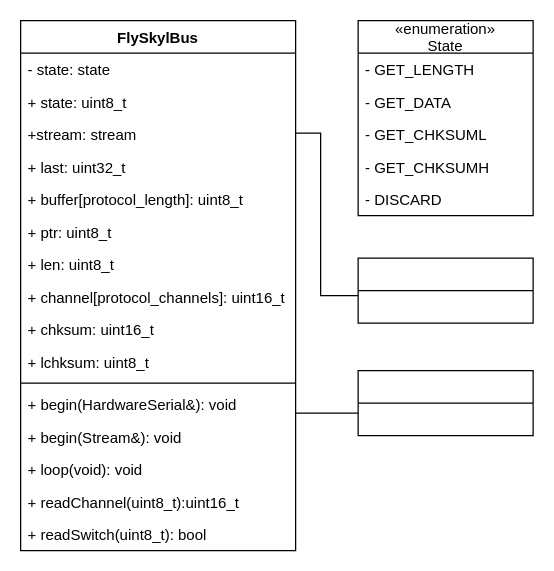
Image size: 554x571. Some labels were removed from this diagram. Each missing label, with the centre of its shape:
HardwareSerial: the point at 445,402
Stream: the point at 445,290
